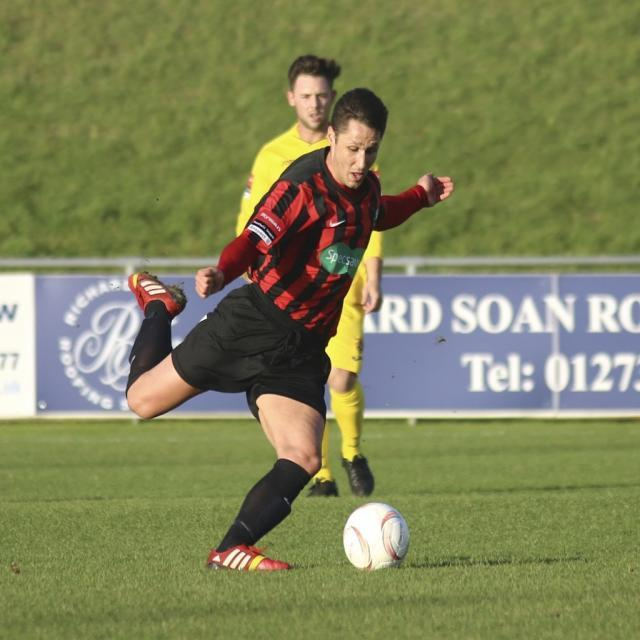football: (339, 496, 419, 578)
